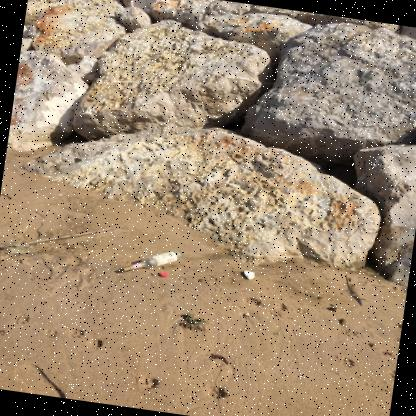Glass bottle: (128, 249, 182, 270)
Plastic bottle cap: (159, 272, 167, 277)
Plastic film: (0, 243, 35, 253)
Rope - strings: (185, 313, 204, 324)
Styrofoam piece: (243, 270, 254, 279)
